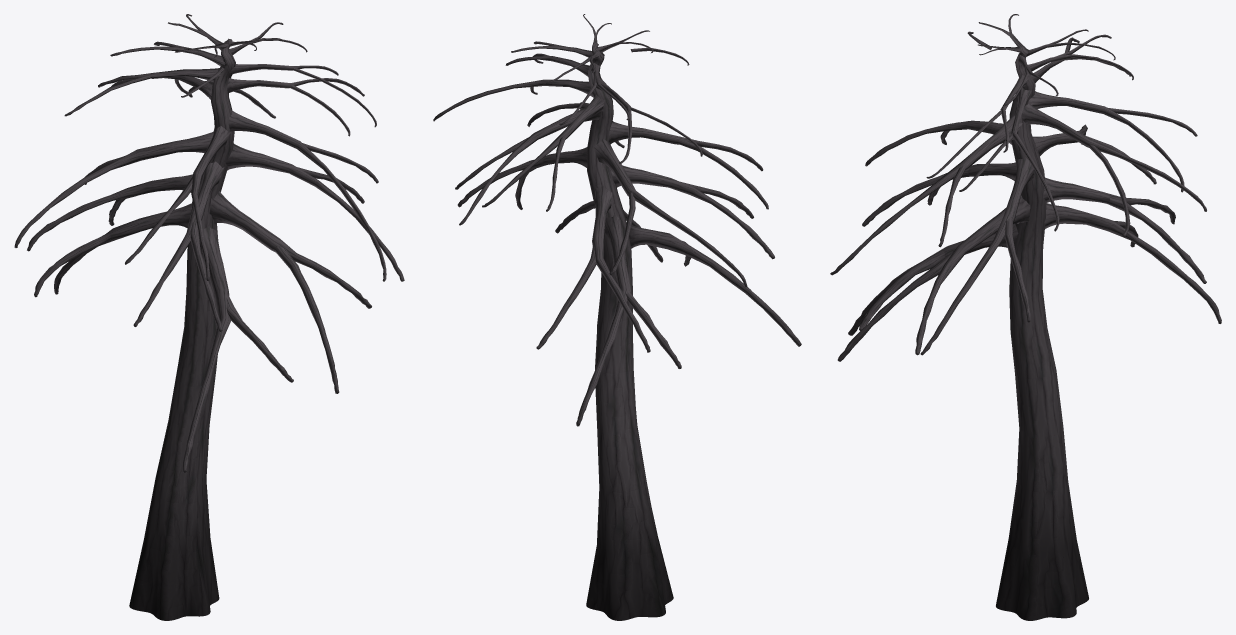
File: Dead_3.glb
The picture shows the model from 3 angles, left to right: view 1: azimuth 30°, elevation 25°; view 2: azimuth 150°, elevation 25°; view 3: azimuth 270°, elevation 25°; orthographic projection. The views are drawn at different scales.
Parts seen in each view (by area): view 1: DeadTree_4; view 2: DeadTree_4; view 3: DeadTree_4.
Boxes of the visible parts, bbox=[...] form: DeadTree_4: bbox=[14, 14, 404, 620]; DeadTree_4: bbox=[433, 14, 801, 620]; DeadTree_4: bbox=[830, 14, 1221, 620].
Bounding box in the file's own units: 7.96 × 12.77 × 7.73.
1 material, 1 textured.
